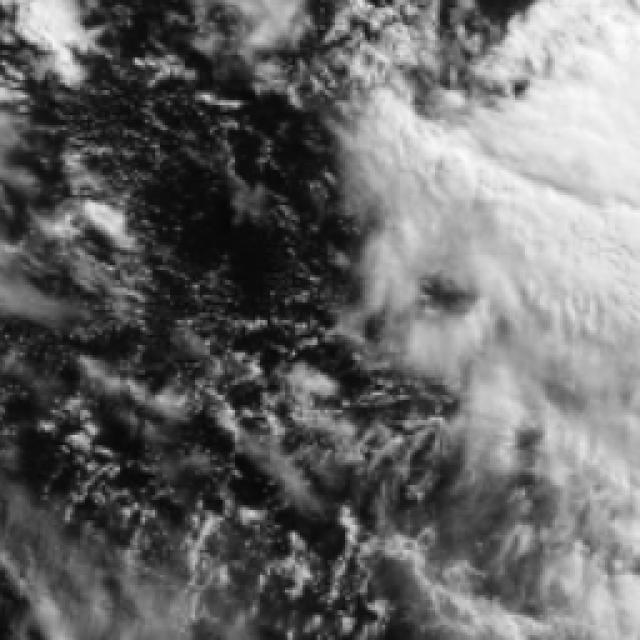CB: (407, 140, 640, 257), (487, 175, 640, 325), (532, 53, 640, 198)
